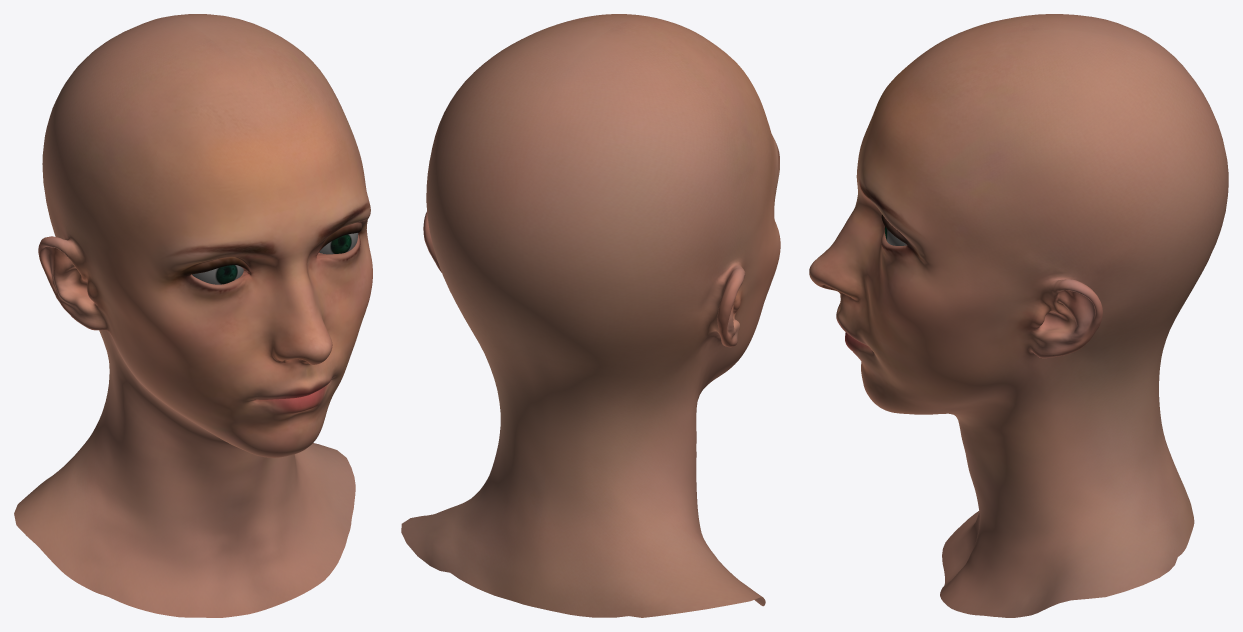
The picture shows the model from 3 angles, left to right: view 1: azimuth 30°, elevation 25°; view 2: azimuth 150°, elevation 25°; view 3: azimuth 270°, elevation 25°; orthographic projection. The views are drawn at different scales.
Parts seen in each view (by area): view 1: Registered head, right eye, left eye; view 2: Registered head; view 3: Registered head.
Boxes of the visible parts, bbox=[...] form: Registered head: bbox=[14, 14, 372, 617]; right eye: bbox=[192, 265, 243, 284]; left eye: bbox=[319, 233, 358, 254]; Registered head: bbox=[401, 14, 780, 617]; Registered head: bbox=[809, 14, 1228, 617].
Size of the model in its own units: 1.19 by 1.9 by 1.3.
3 materials, 3 textured.
